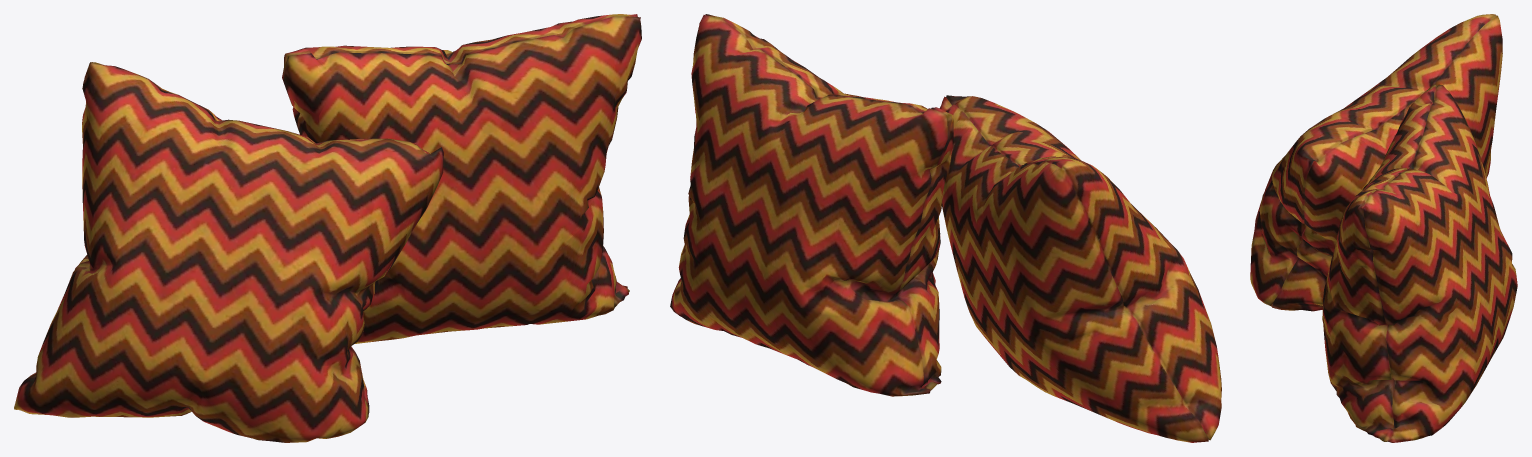
The model's file is pillows.glb.
The picture shows the model from 3 angles, left to right: view 1: azimuth 30°, elevation 25°; view 2: azimuth 150°, elevation 25°; view 3: azimuth 270°, elevation 25°; orthographic projection. The views are drawn at different scales.
Parts seen in each view (by area): view 1: pillows_m_0, pillows_m_1; view 2: pillows_m_1, pillows_m_0; view 3: pillows_m_1, pillows_m_0.
Boxes of the visible parts, x1,y1,x2,y2 form: pillows_m_0: (14, 62, 443, 442); pillows_m_1: (282, 14, 641, 343); pillows_m_1: (670, 14, 953, 396); pillows_m_0: (939, 95, 1221, 442); pillows_m_1: (1322, 84, 1517, 442); pillows_m_0: (1250, 14, 1502, 311).
Bounding box in the file's own units: 0.9401 × 0.4502 × 0.4519.
Materials: 1 (1 with a texture image).
